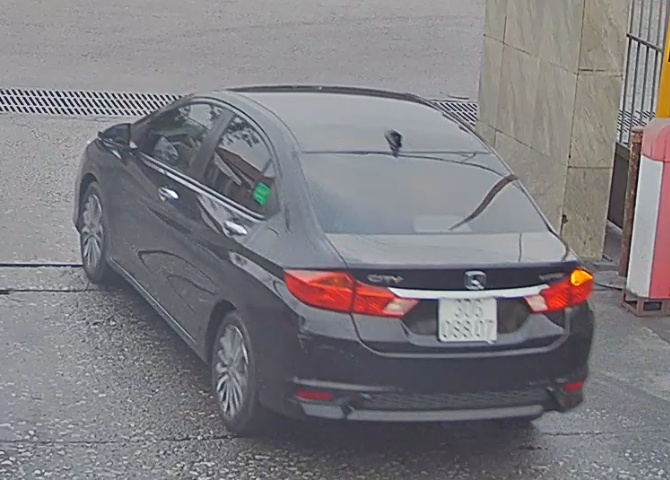vehicle plate: (434, 289, 499, 346)
